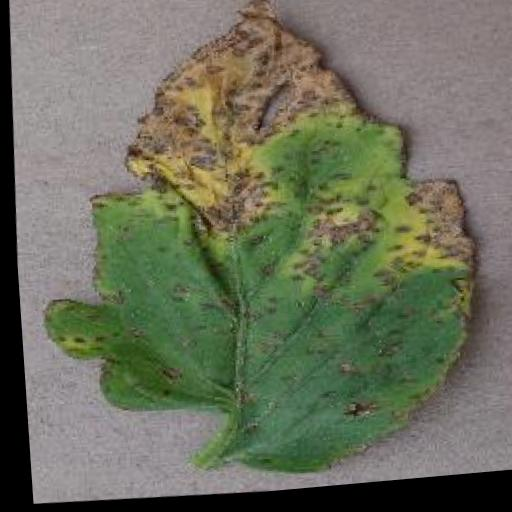Bacterial Spot: (9, 0, 502, 511)
